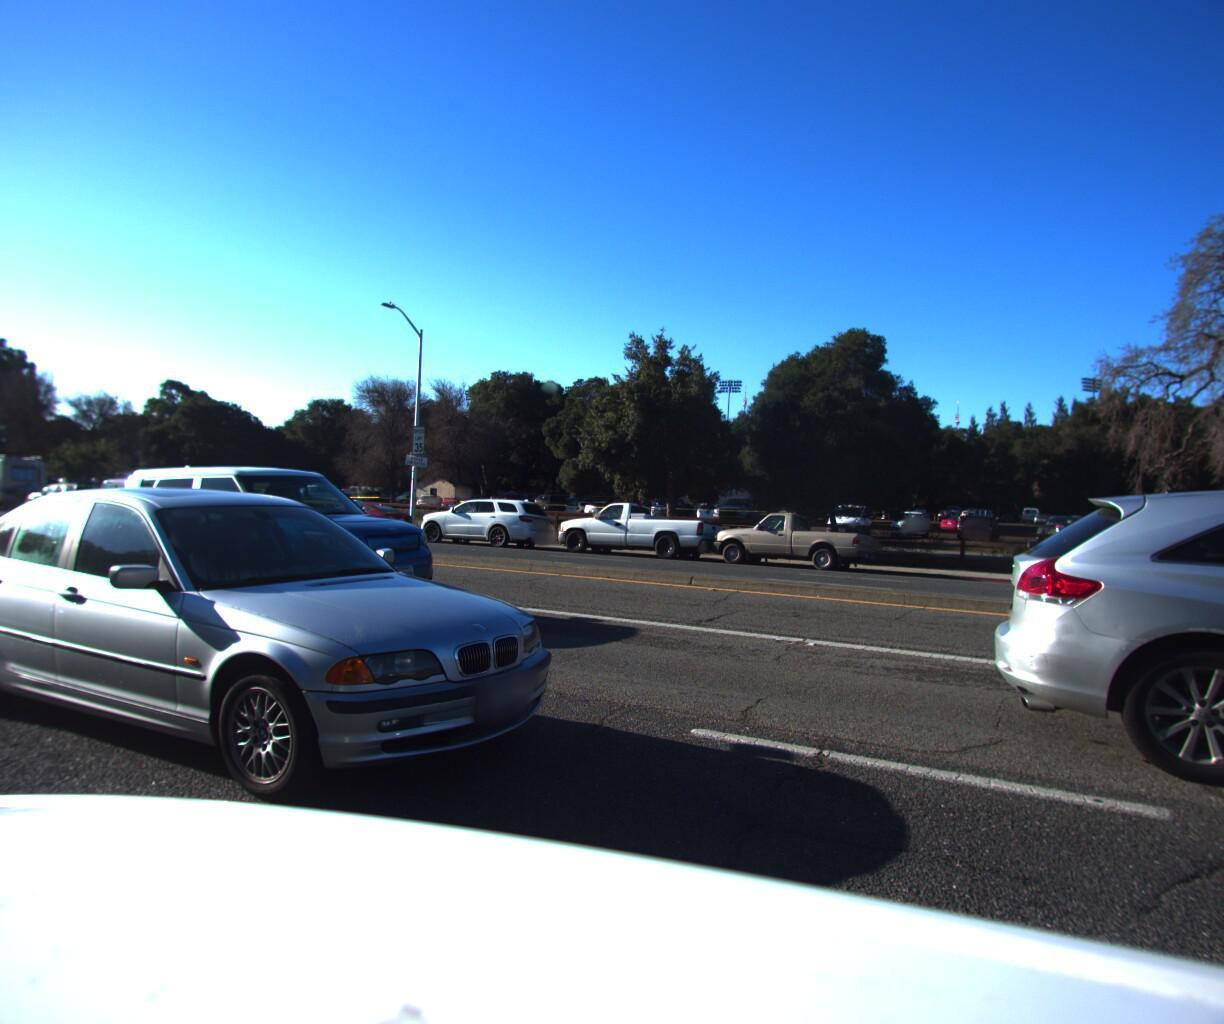car: (0, 469, 606, 842), (1028, 454, 1224, 1009), (99, 456, 476, 633), (1163, 457, 1224, 742), (706, 500, 882, 565), (551, 491, 730, 555), (415, 485, 557, 540), (305, 490, 420, 533), (84, 471, 182, 517), (23, 475, 113, 510)
other_vehicle: (0, 446, 67, 506)
